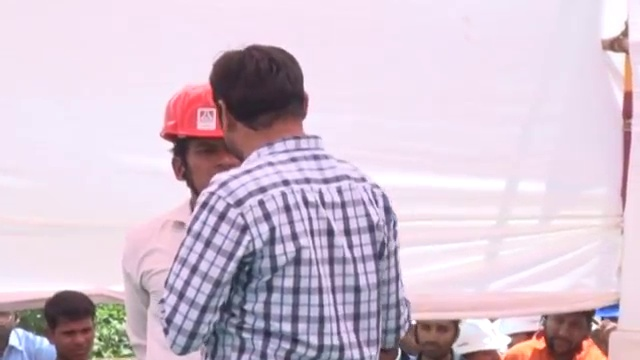helmet: (158, 82, 229, 141), (452, 315, 512, 359)
helmet_off: (209, 45, 312, 161), (43, 290, 99, 360), (541, 311, 596, 354), (415, 316, 462, 360), (0, 309, 20, 360), (610, 22, 635, 49)
helmet_on: (159, 86, 234, 203)
person: (155, 45, 417, 360), (120, 82, 243, 360), (504, 309, 610, 360), (0, 305, 56, 360)
